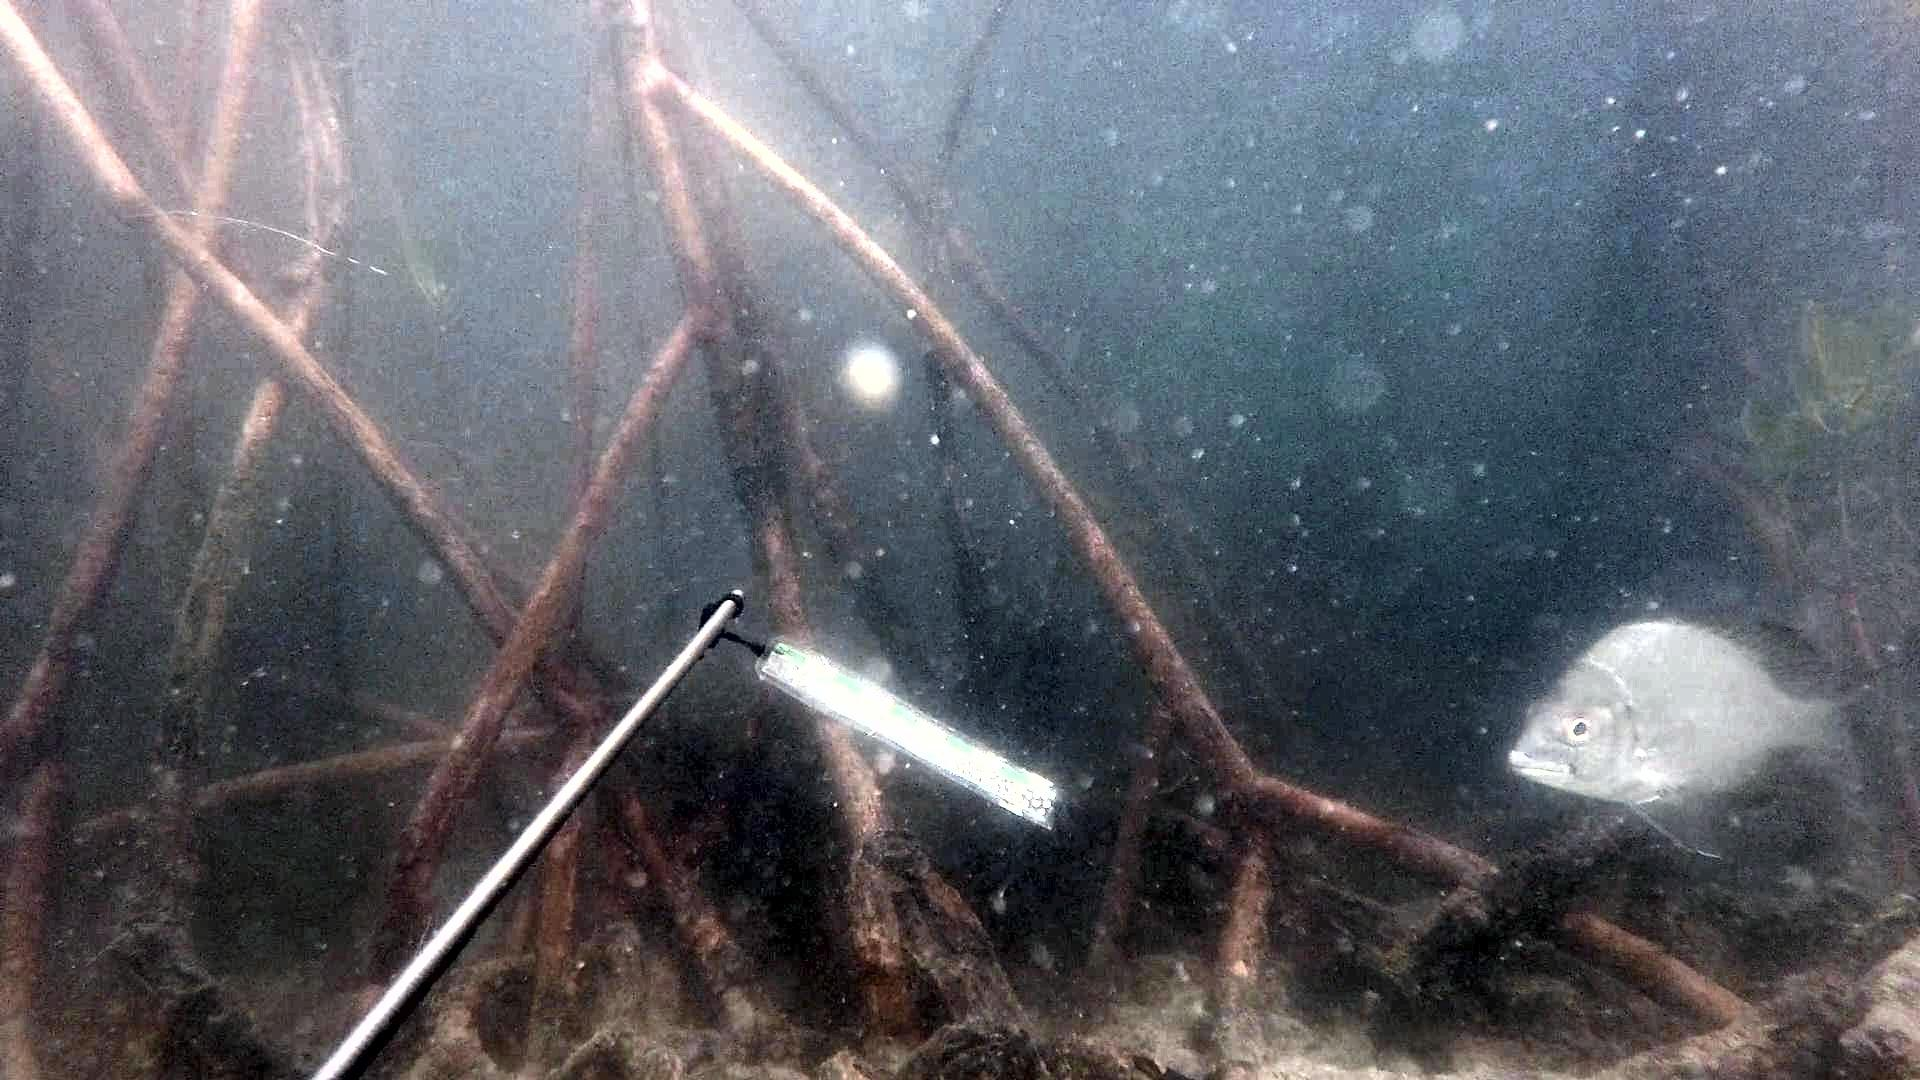acanthopagrus palmaris: (1505, 608, 1920, 864)
